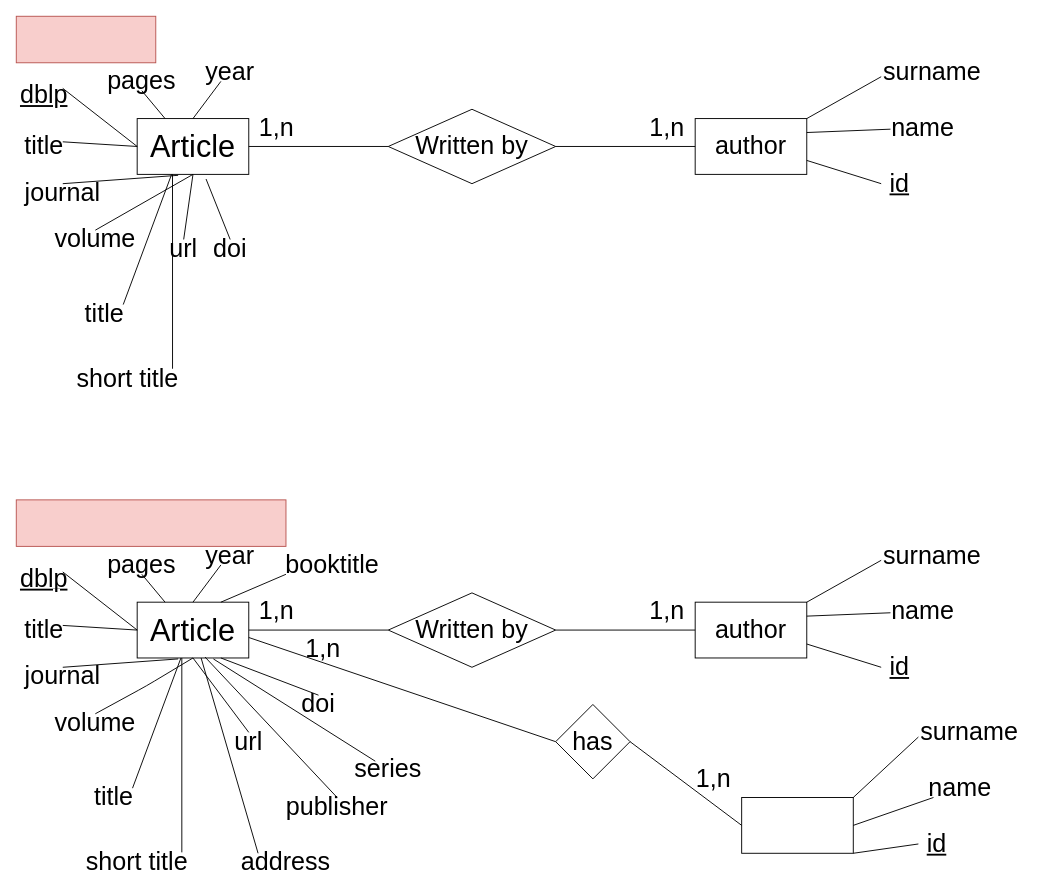
Some shapes in this 1037 by 894 pixel diagram are drawn without their labels. The shapes that lost their labels are listed below. From the top down, each one's box as (x1, y1, x2, y2) in pixels, then its label:
(15, 15, 156, 63): @Article
(15, 499, 286, 546): @inproceedings
(741, 797, 853, 853): editor
